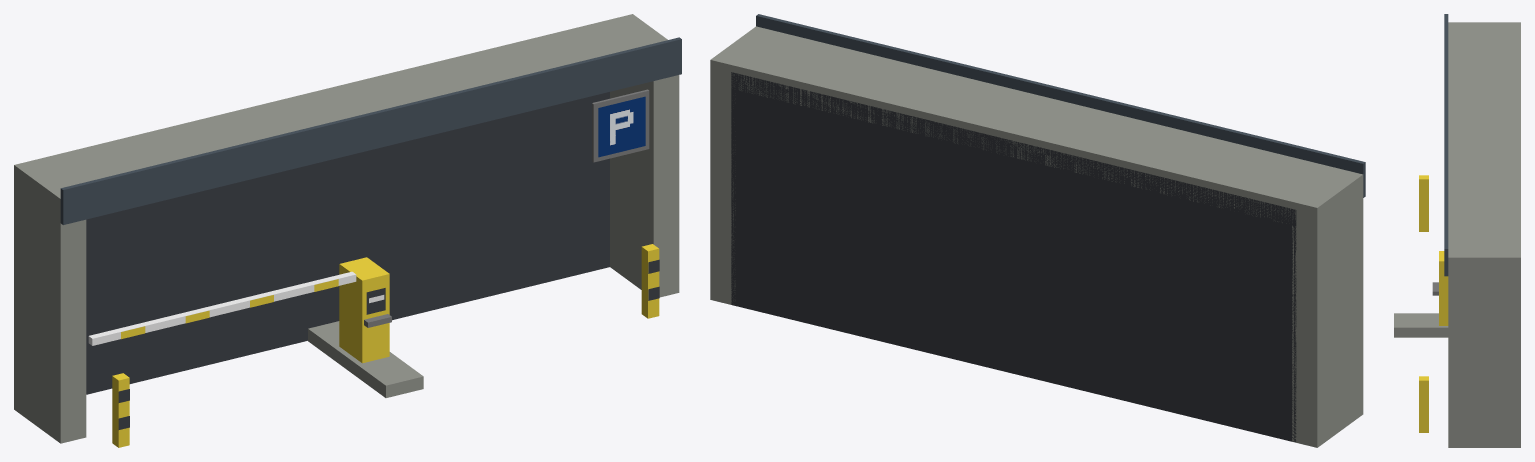
The model's file is entrance_close.fbx.
3 views of the same model, side by side, from view 1: azimuth 30°, elevation 25°; view 2: azimuth 150°, elevation 25°; view 3: azimuth 270°, elevation 25° (orthographic). The views are drawn at different scales.
Parts seen in each view (by area): view 1: a3005/0/entrance_close; view 2: a3005/0/entrance_close; view 3: a3005/0/entrance_close.
Boxes of the visible parts, left/top/right/bottom form: a3005/0/entrance_close: left=14, top=14, right=681, bottom=447; a3005/0/entrance_close: left=710, top=14, right=1365, bottom=447; a3005/0/entrance_close: left=1394, top=14, right=1520, bottom=447.
Bounding box in the file's own units: 7.2 × 2.84 × 1.64.
